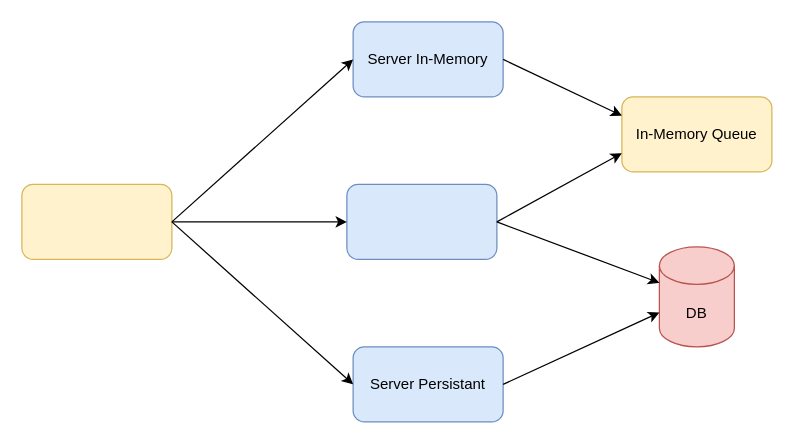
Some shapes in this 794 by 444 pixel diagram are drawn without their labels. Here are the shapes that lost their labels. From the top down, the centre of each, then its label:
At [96,221]: "Main".
At [421,221]: "Server With-Backup".
